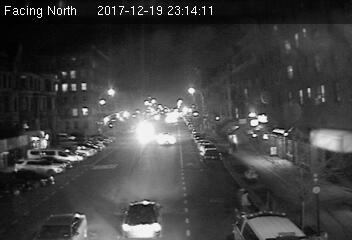car: (115, 200, 167, 238), (201, 148, 222, 164), (157, 132, 177, 147)
police: (231, 207, 302, 240)
